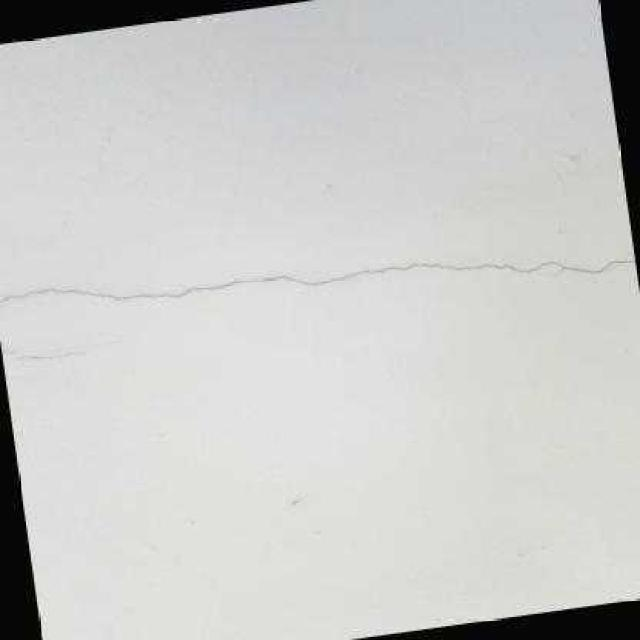D00: (0, 258, 635, 299), (12, 338, 121, 357), (1, 348, 15, 353)
